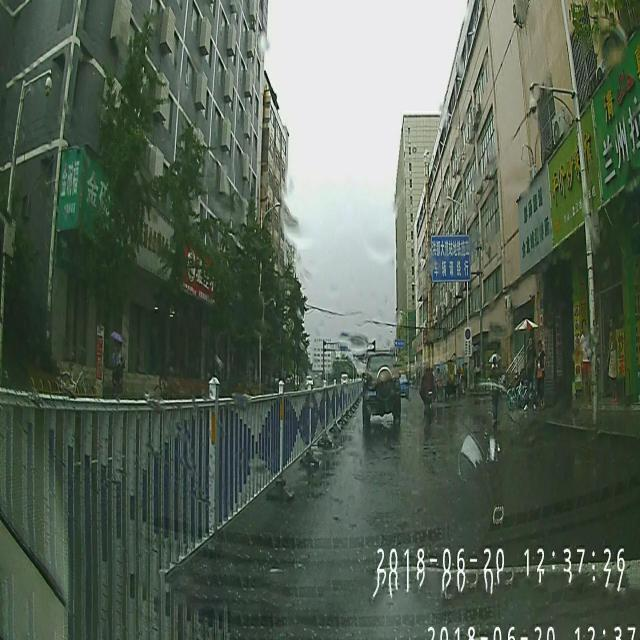car: (361, 351, 402, 429)
